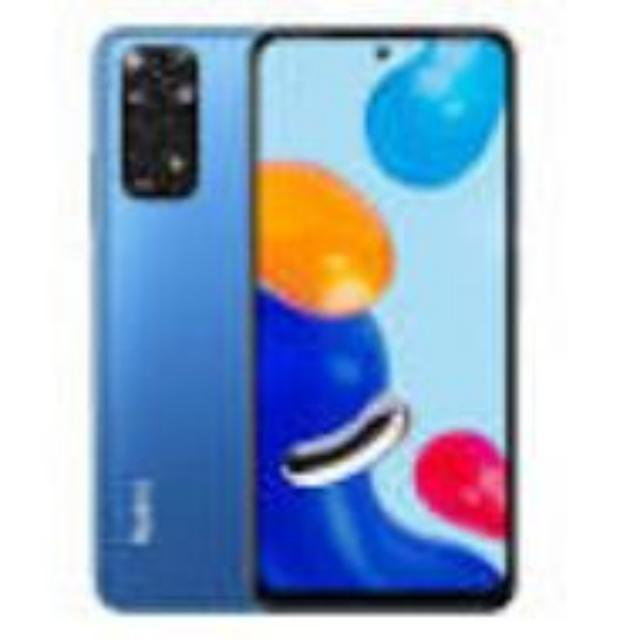Phone: (262, 19, 520, 615), (95, 24, 249, 610)
